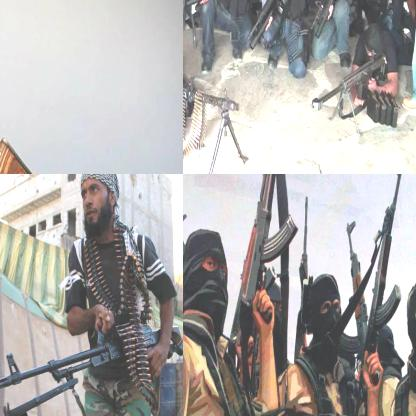rifle: (0, 320, 182, 415), (360, 174, 406, 376), (238, 174, 297, 327), (309, 53, 385, 136), (340, 218, 372, 362), (245, 0, 304, 58), (309, 0, 355, 41), (183, 0, 254, 11)
